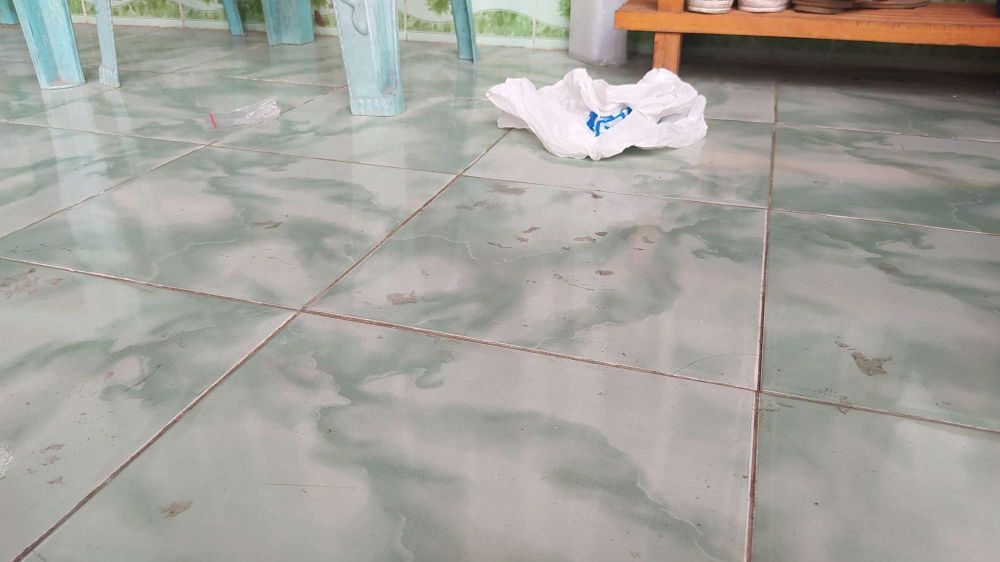plastik: (473, 69, 720, 162)
